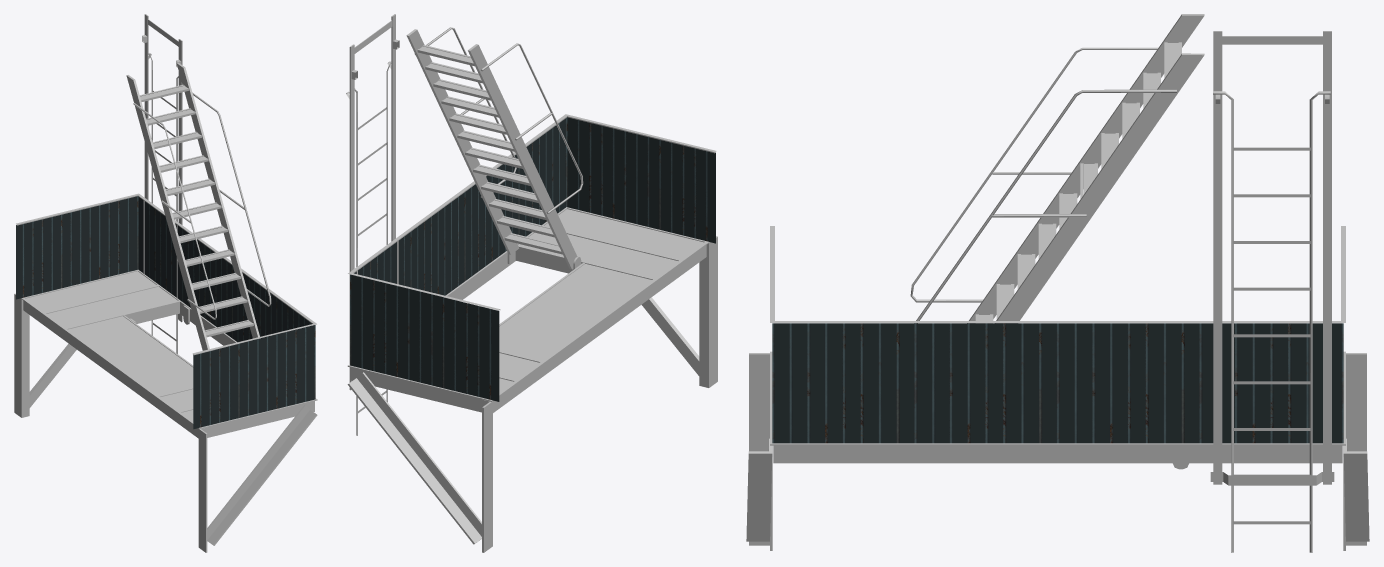
The model's file is Fire_escape1_LOD1.fbx.
3 views of the same model, side by side, from view 1: azimuth 30°, elevation 25°; view 2: azimuth 150°, elevation 25°; view 3: azimuth 270°, elevation 25° (orthographic). The views are drawn at different scales.
Parts seen in each view (by area): view 1: polySurface948; view 2: polySurface948; view 3: polySurface948.
Part boxes in pixels (box(x1,y1,x2,y2)): polySurface948: box(14, 14, 317, 552); polySurface948: box(346, 14, 717, 552); polySurface948: box(746, 14, 1369, 552).
Size of the model in its own units: 1.7 by 4.71 by 4.38.
